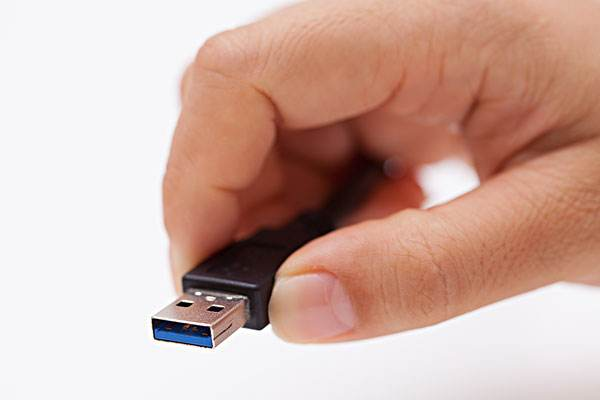no-phone: (146, 13, 593, 354)
